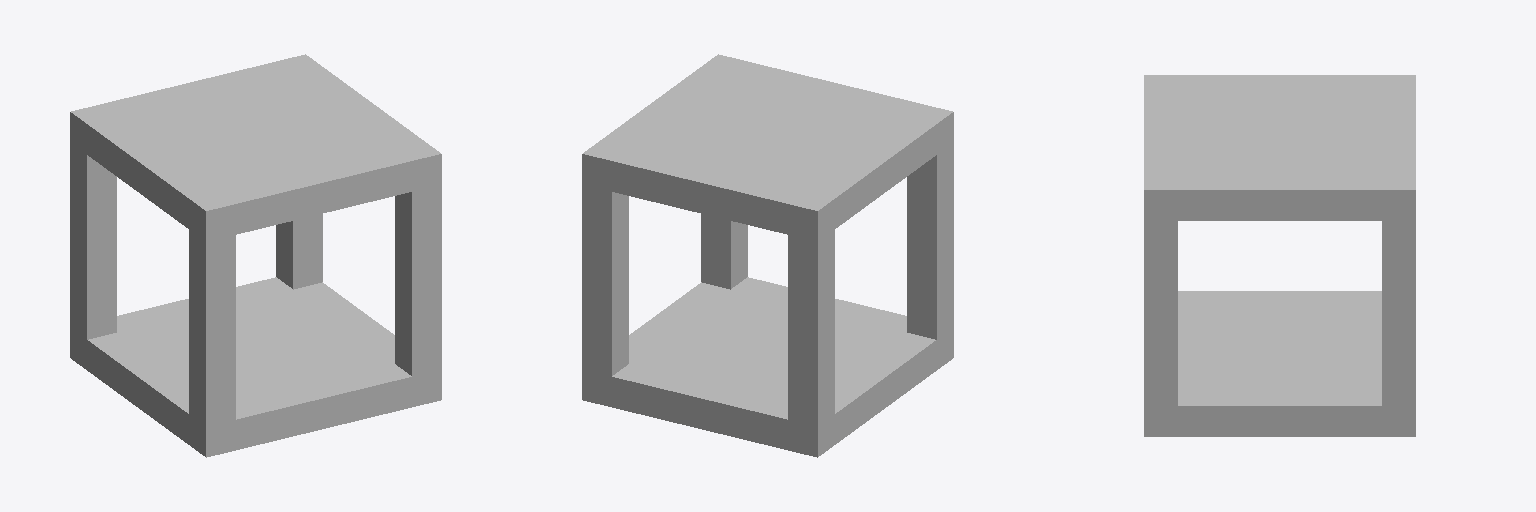
The model's file is Piece+.obj.
3 views of the same model, side by side, from view 1: azimuth 30°, elevation 25°; view 2: azimuth 150°, elevation 25°; view 3: azimuth 270°, elevation 25° (orthographic).
Visible parts, largest first — view 1: +-Piece_Cube.006; view 2: +-Piece_Cube.006; view 3: +-Piece_Cube.006.
Part boxes in pixels (bbox=[...]): +-Piece_Cube.006: bbox=[70, 54, 441, 457]; +-Piece_Cube.006: bbox=[582, 54, 953, 457]; +-Piece_Cube.006: bbox=[1144, 75, 1415, 436].
Bounding box in the file's own units: 2 × 2 × 2.